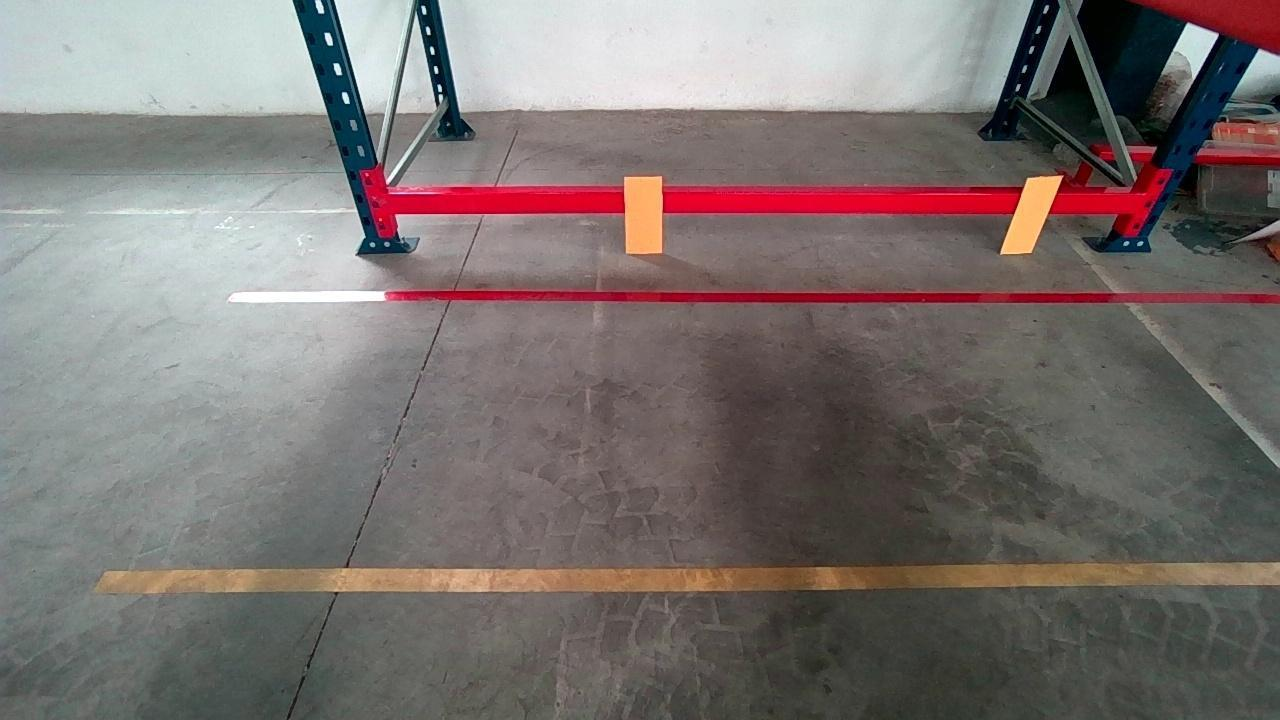h_rack: (387, 179, 1134, 215)
orange_strip: (1001, 176, 1064, 251), (625, 175, 663, 251)
red_line: (222, 284, 1271, 312)
yellow_line: (95, 558, 1276, 598)
